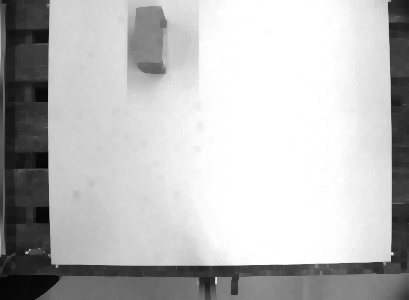b6: (131, 3, 168, 75)
